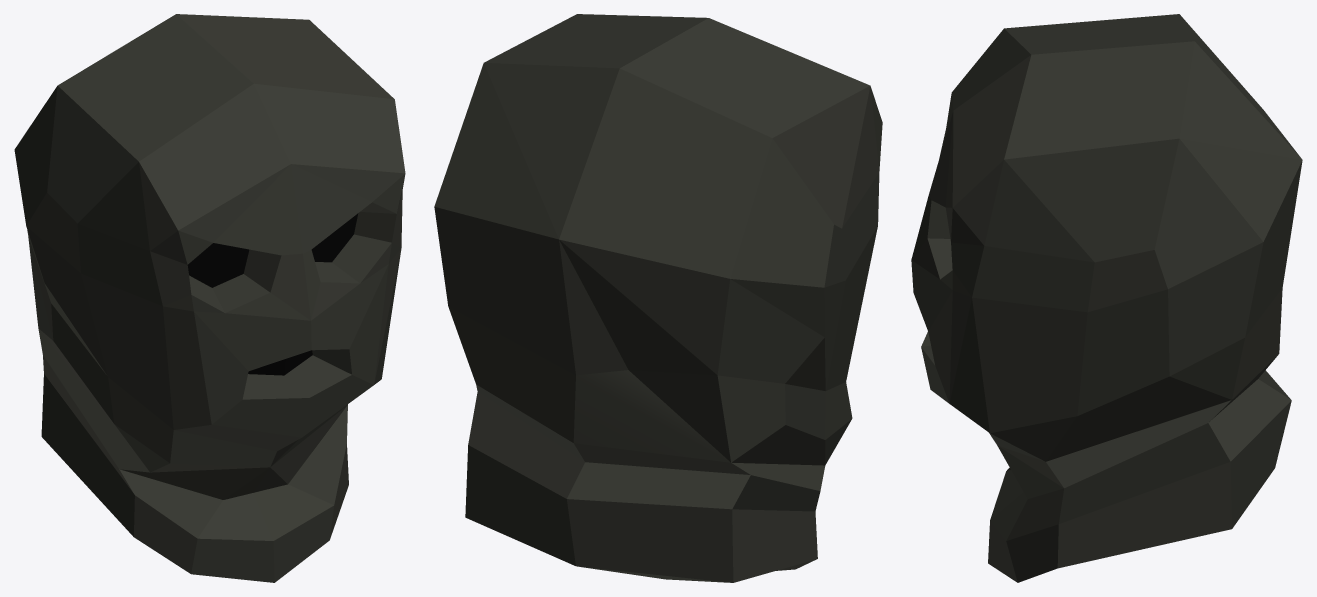
Rendered from SM_Chr_Attach_Insurgent_Headpiece_04.fbx.
3 renders of one model, left to right at view 1: azimuth 30°, elevation 25°; view 2: azimuth 150°, elevation 25°; view 3: azimuth 270°, elevation 25°, orthographic. The views are drawn at different scales.
Visible parts, largest first — view 1: SM_Chr_Attach_Insurgent_Headpiece_04; view 2: SM_Chr_Attach_Insurgent_Headpiece_04; view 3: SM_Chr_Attach_Insurgent_Headpiece_04.
Part boxes in pixels (x1,y1,x2,y2): SM_Chr_Attach_Insurgent_Headpiece_04: (14, 14, 405, 582); SM_Chr_Attach_Insurgent_Headpiece_04: (434, 14, 882, 582); SM_Chr_Attach_Insurgent_Headpiece_04: (911, 14, 1302, 582).
Bounding box in the file's own units: 29.4 × 43.55 × 29.58.
